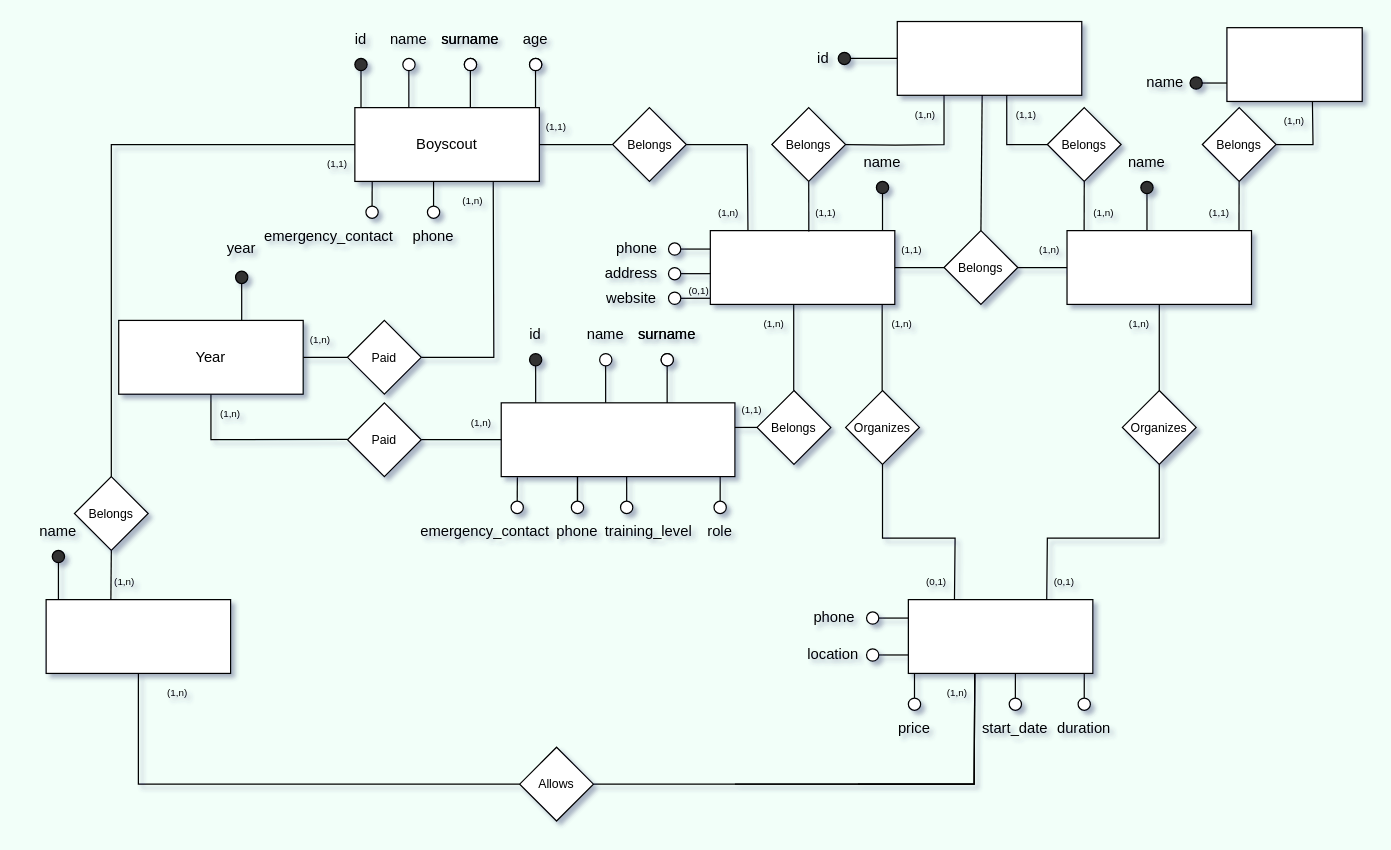
The diagram is 1391 pixels wide and 850 high, and some of its shapes have lost their labels. Each missing label, with the centre of its shape:
Activity: the point at 1000,635
Adult: the point at 617,439
Category: the point at 138,635
Group: the point at 802,266
Nation: the point at 1294,63
Organization: the point at 1159,266
Zone: the point at 989,57
